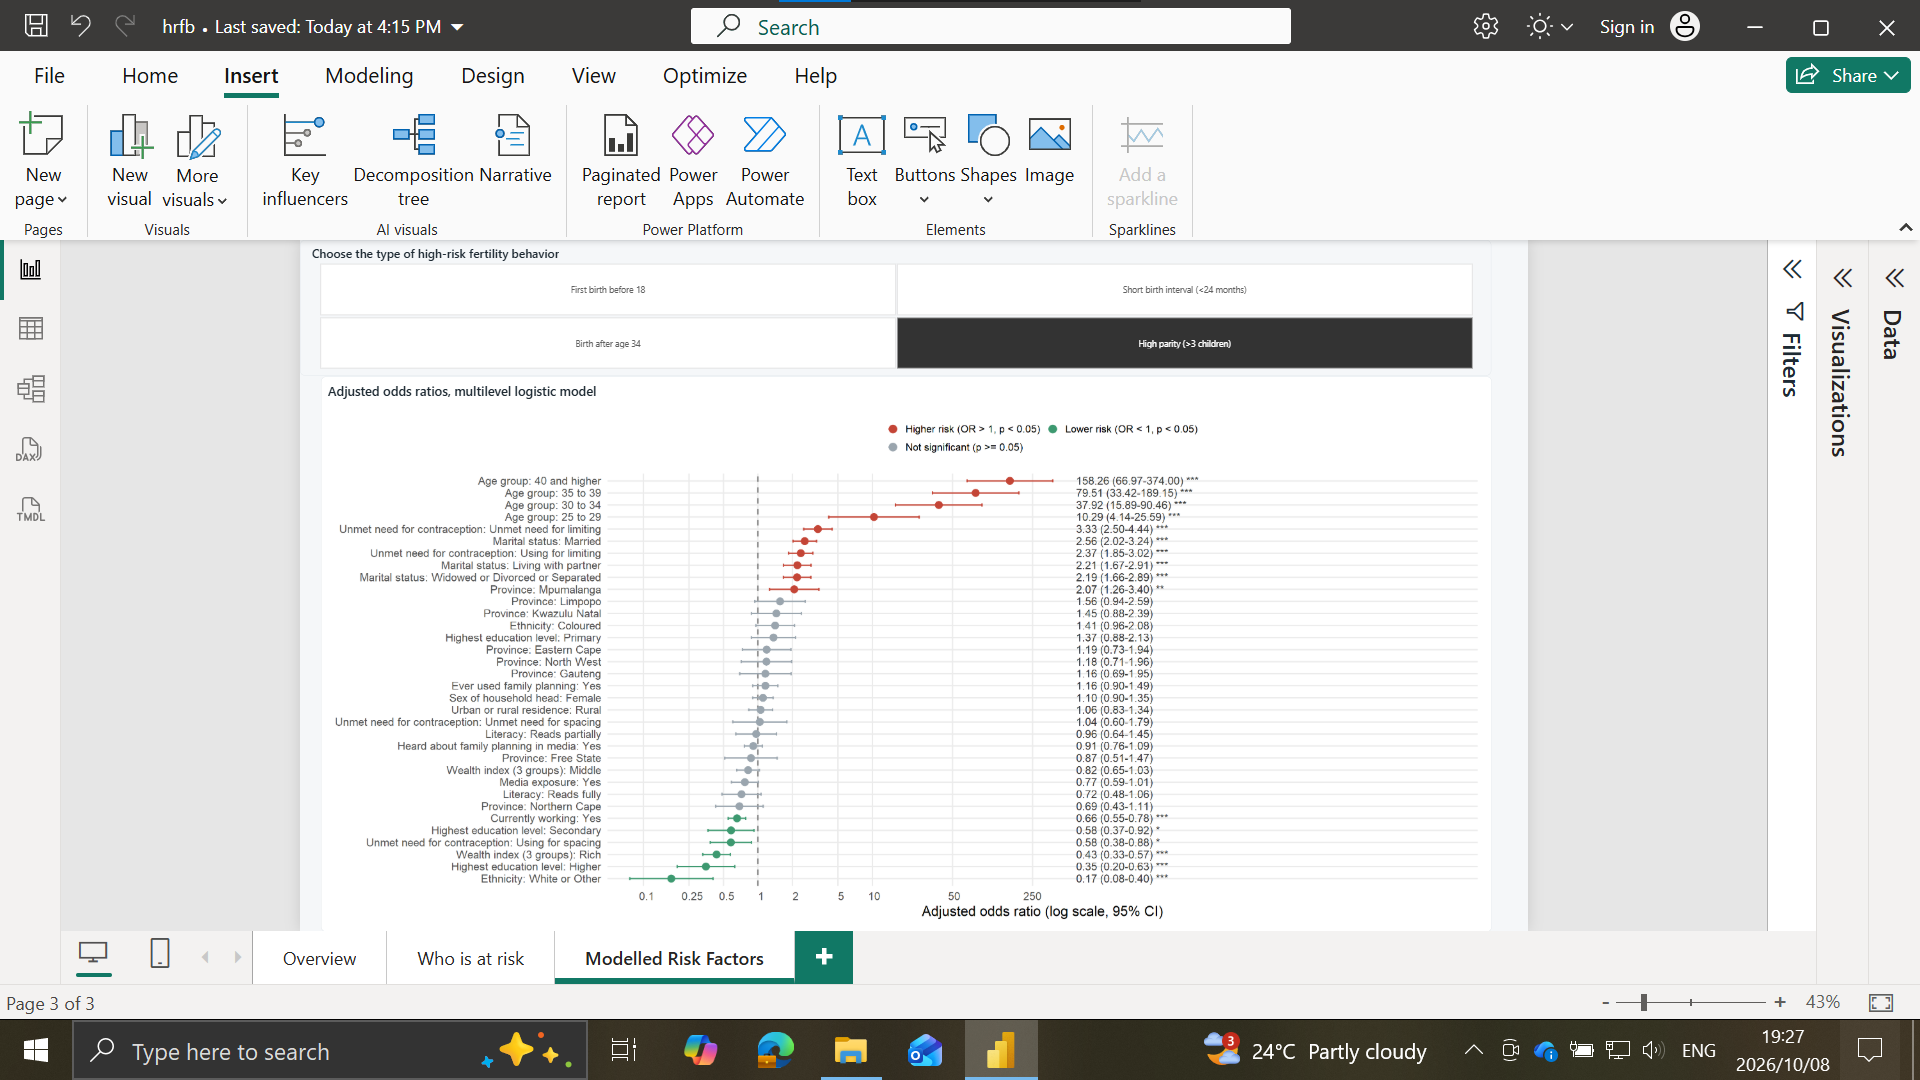

What the dashboard file says about the page in this screenshot:
{"tool":"powerbi","page":{"name":"Modelled Risk Factors","canvas":[1920,1080],"ordinal":2},"visuals":[{"type":"slicer","fields":{"Values":["dim_outcome.outcome_label"]},"box":[0,0,1862,212],"z":0},{"type":"scriptVisual","title":"Adjusted odds ratios, multilevel logistic model","fields":{"Values":["fact_odds_ratios.term_label","fact_odds_ratios.odds_ratio","fact_odds_ratios.ci_lower","fact_odds_ratios.ci_upper","fact_odds_ratios.p_value"]},"box":[32.9,212.6,1830.1,868.2],"z":1001}]}

Visuals, with their boxes on the page's 1920x1080 design canvas (x1, y1, x2, y2). These are canvas units, not pixel positions in the 1920x1080 screenshot, which may show the page scaled, cropped or inside an application window:
slicer - dim_outcome.outcome_label: [x1=0, y1=0, x2=1862, y2=212]
"Adjusted odds ratios, multilevel logistic model" scriptVisual: [x1=33, y1=213, x2=1863, y2=1081]
